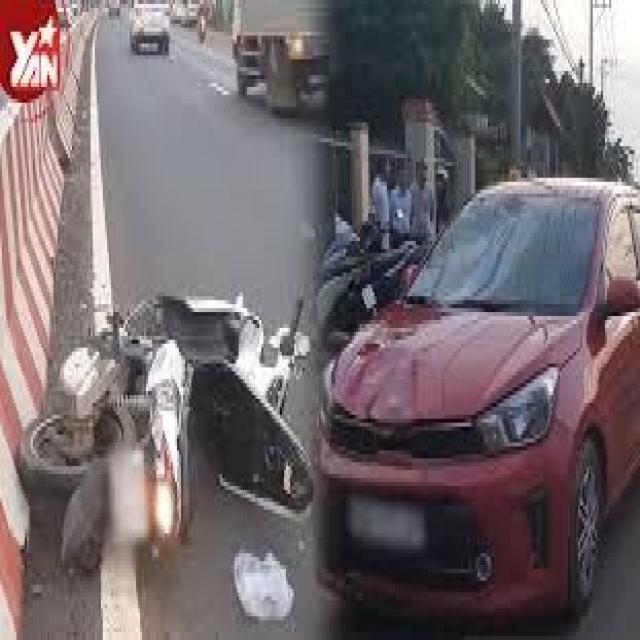accident: (25, 228, 323, 581)
